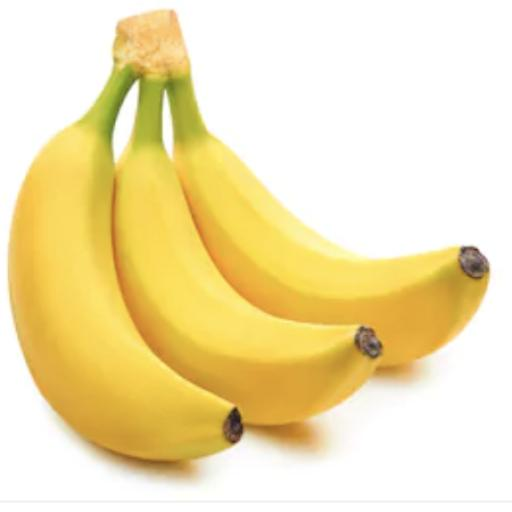banana: (10, 38, 242, 459), (169, 61, 489, 365), (114, 77, 381, 424)
